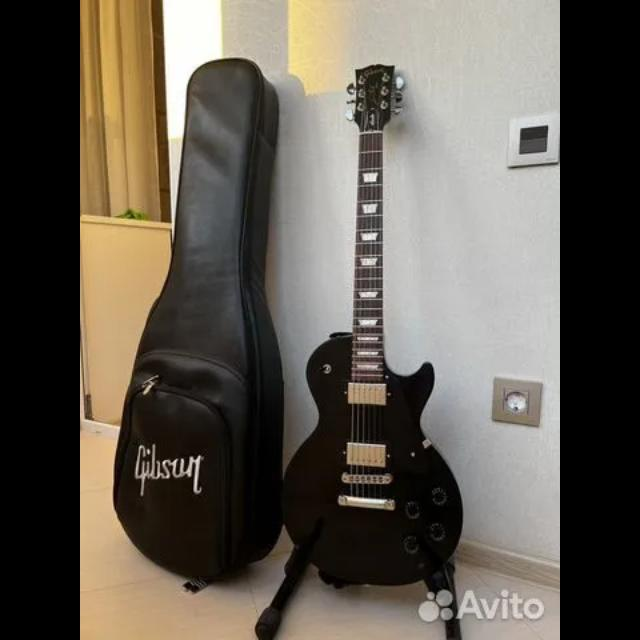Electric-Guitar: (284, 66, 464, 584)
